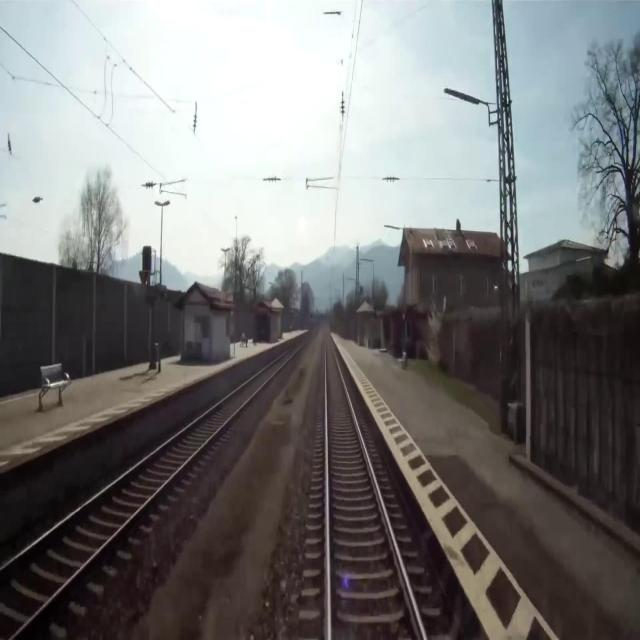rail-track: (0, 348, 296, 639), (325, 330, 422, 639)
